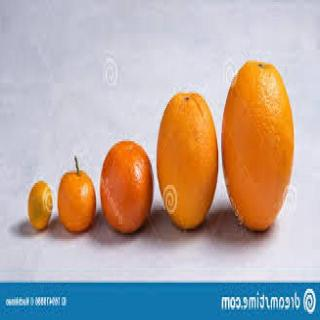orange: (220, 53, 290, 254), (157, 74, 219, 260), (96, 136, 156, 258), (53, 160, 95, 259), (28, 176, 52, 250)
